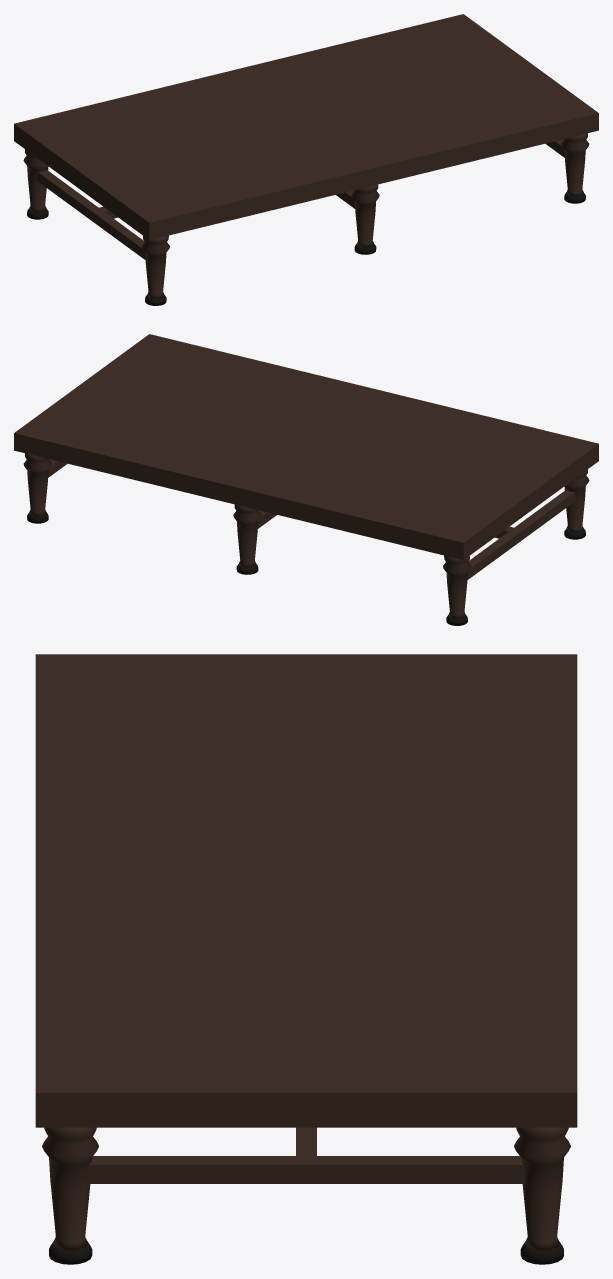
Rendered from legs-caromLarge.glb.
3 renders of one model, top to bottom at view 1: azimuth 30°, elevation 25°; view 2: azimuth 150°, elevation 25°; view 3: azimuth 270°, elevation 25°, orthographic. The views are drawn at different scales.
Visible parts, largest first — view 1: Support_caromLarge, Cross_caromLarge_0.04, Leg_caromLarge_00, Leg_caromLarge_10, Leg_caromLarge_20, Leg_caromLarge_01; view 2: Support_caromLarge, Cross_caromLarge_0.04, Leg_caromLarge_01, Leg_caromLarge_11, Leg_caromLarge_21, Leg_caromLarge_00; view 3: Support_caromLarge, Cross_caromLarge_2.80, Leg_caromLarge_10, Leg_caromLarge_11.
Boxes of the visible parts, <box> form: Support_caromLarge: <box>14,14,598,240</box>; Cross_caromLarge_0.04: <box>37,170,145,259</box>; Leg_caromLarge_00: <box>141,235,169,298</box>; Leg_caromLarge_10: <box>561,133,589,196</box>; Leg_caromLarge_20: <box>351,184,379,247</box>; Leg_caromLarge_01: <box>23,149,48,212</box>; Support_caromLarge: <box>14,334,598,560</box>; Cross_caromLarge_0.04: <box>467,490,575,579</box>; Leg_caromLarge_01: <box>443,555,471,618</box>; Leg_caromLarge_11: <box>23,453,51,516</box>; Leg_caromLarge_21: <box>233,504,261,567</box>; Leg_caromLarge_00: <box>564,469,589,532</box>; Support_caromLarge: <box>35,654,577,1127</box>; Cross_caromLarge_2.80: <box>87,1156,525,1183</box>; Leg_caromLarge_10: <box>42,1127,98,1250</box>; Leg_caromLarge_11: <box>514,1127,570,1250</box>.
Size of the model in its own units: 2.97 by 0.56 by 1.55.
